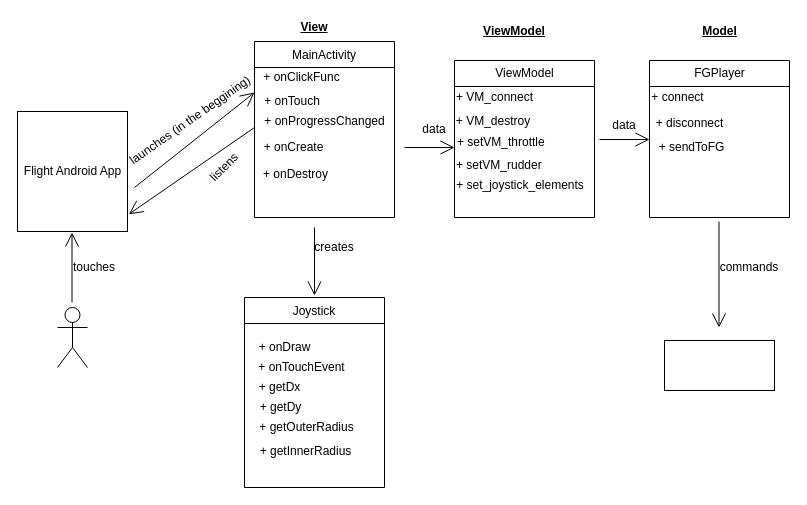
The diagram is 807 pixels wide and 505 high, and some of its shapes have lost their labels. The centre of each missing label's shape, as x and y in pixels:
FlightGear: [719,365]
User: [72,337]
